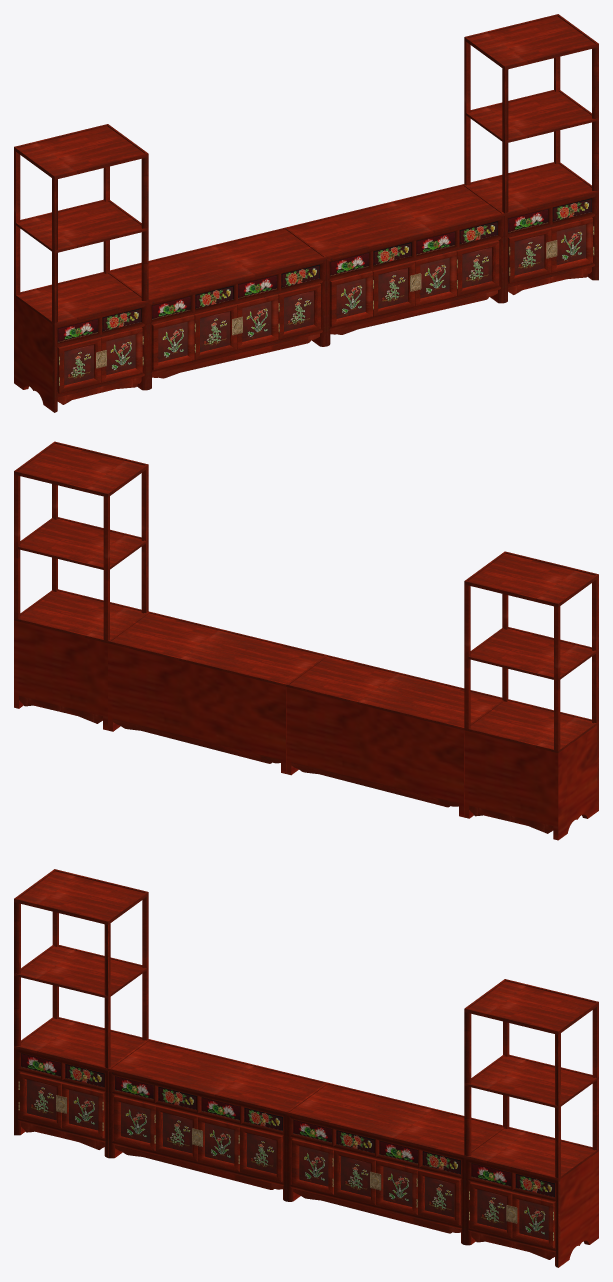
The model's file is cabinet.FBX.
The picture shows the model from 3 angles, top to bottom: view 1: azimuth 30°, elevation 25°; view 2: azimuth 150°, elevation 25°; view 3: azimuth 330°, elevation 25°; orthographic projection.
Parts seen in each view (by area): view 1: Group_107; view 2: Group_107; view 3: Group_107.
Boxes of the visible parts, x1=… form: Group_107: x1=14, y1=14, x2=598, y2=412; Group_107: x1=14, y1=441, x2=598, y2=840; Group_107: x1=14, y1=869, x2=598, y2=1267.
Size of the model in its own units: 125 by 51.9 by 16.45.
